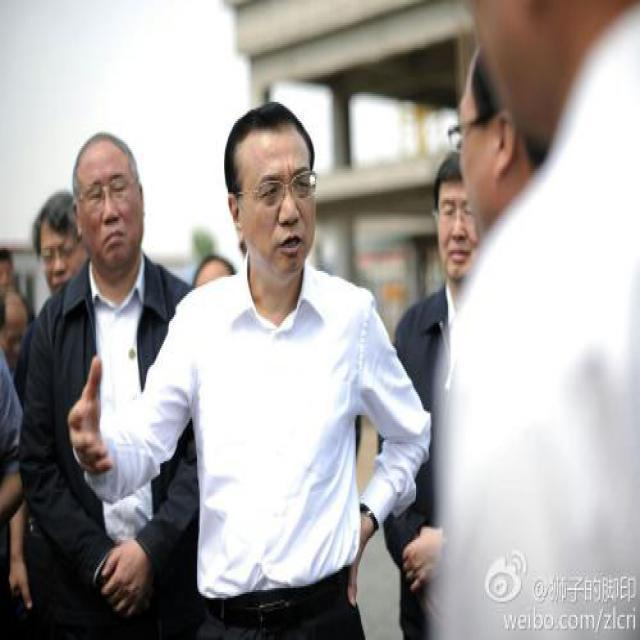head: (218, 89, 323, 280), (451, 22, 540, 243), (69, 122, 149, 276), (431, 145, 475, 282), (35, 183, 83, 299)
person: (159, 93, 429, 625), (17, 122, 196, 628)
